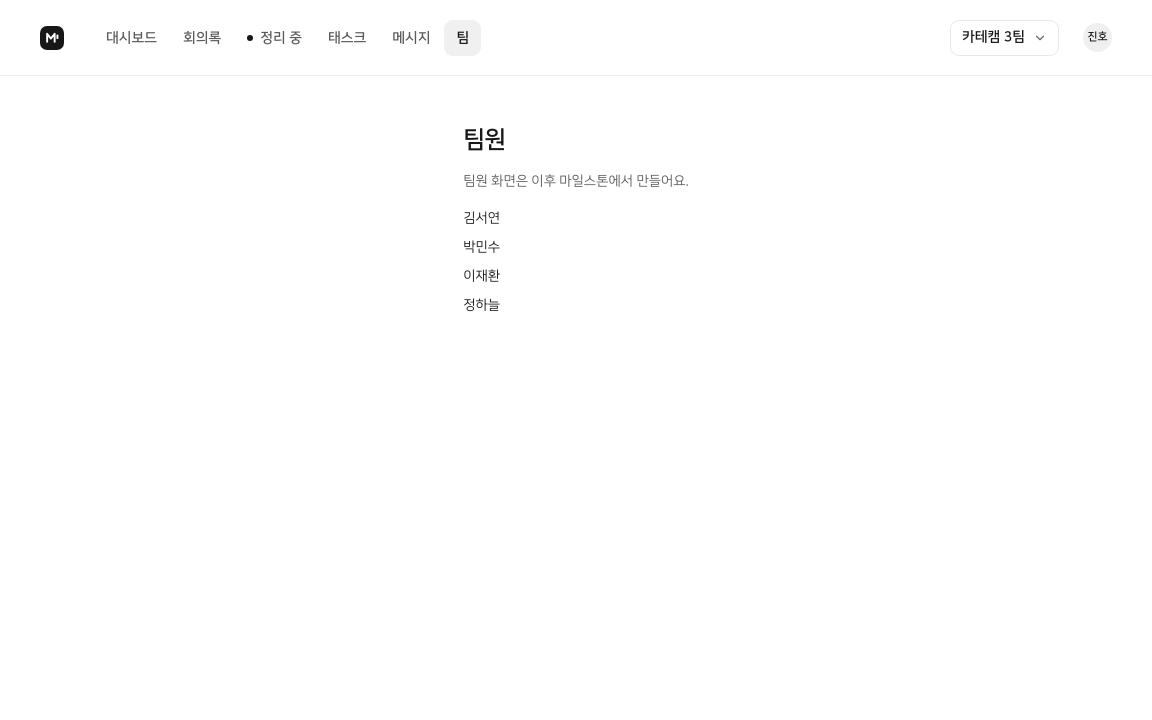
Test case: 로그아웃 (U2-7) › 저장하지 않은 변경이 있으면 먼저 묻는다 — 계속 작성하면 요청하지 않는다
Expected: the list item "김서연" is shown, [463,211,500,225]
Click the button with aria-label "내 계정".
click(1098, 38)  # box [1083,23,1112,52]
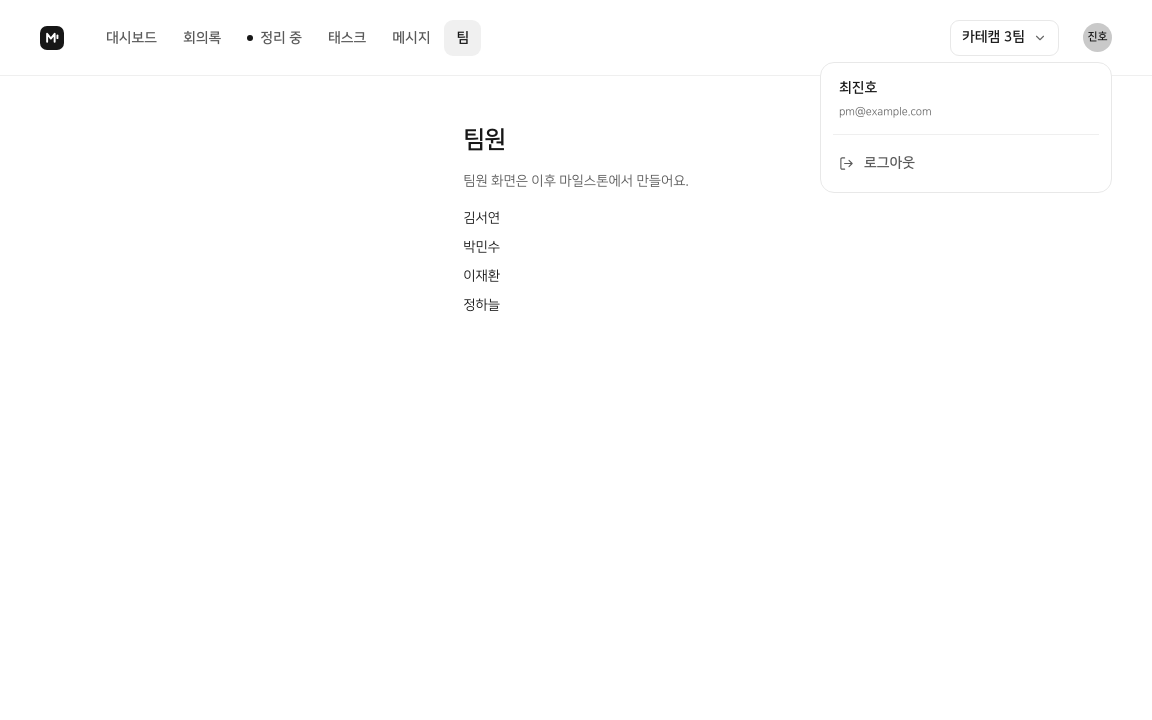
Click the menu item "로그아웃".
click(877, 163)  # box [839,155,915,171]
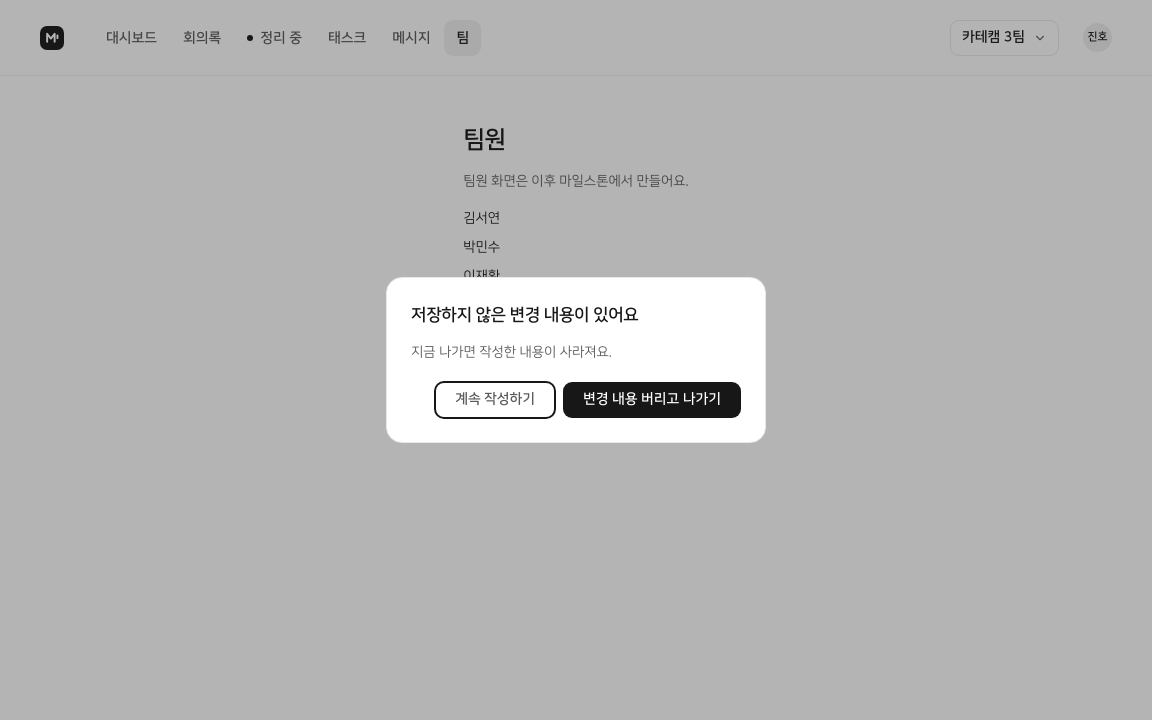
Expected: the dialog "저장하지 않은 변경 내용이 있어요" is shown, [386,277,766,443]
Click the button "계속 작성하기".
click(495, 400)  # box [435,382,555,418]
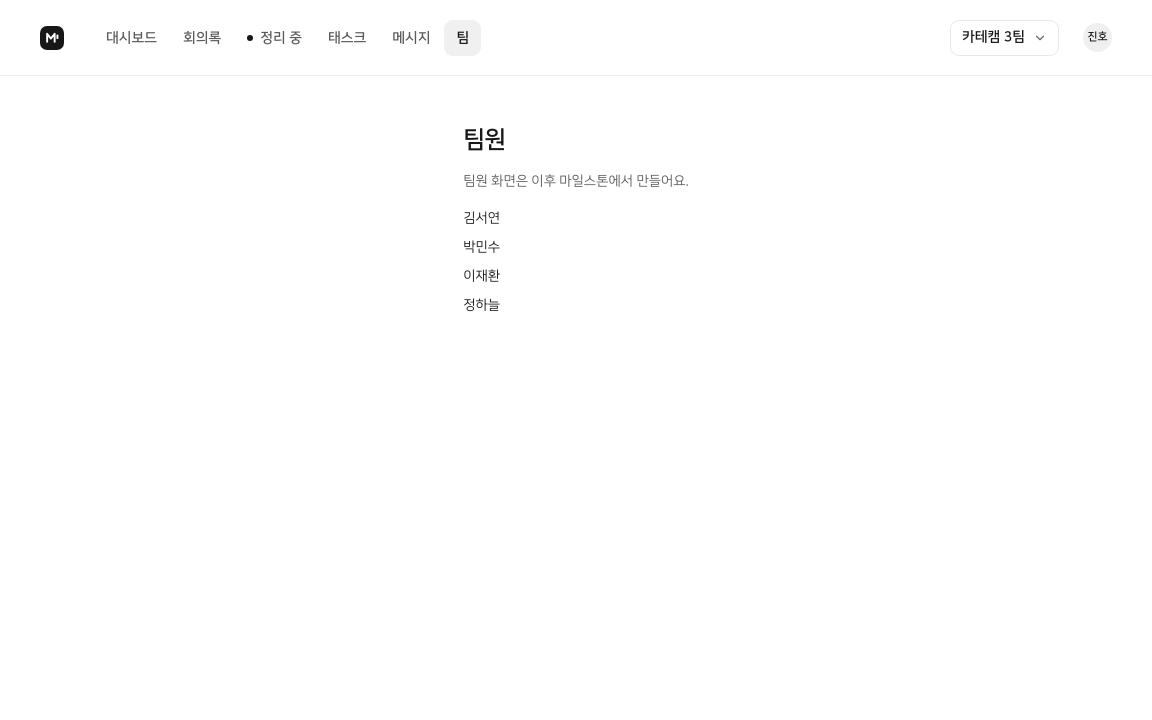
Expected: the dialog is gone
